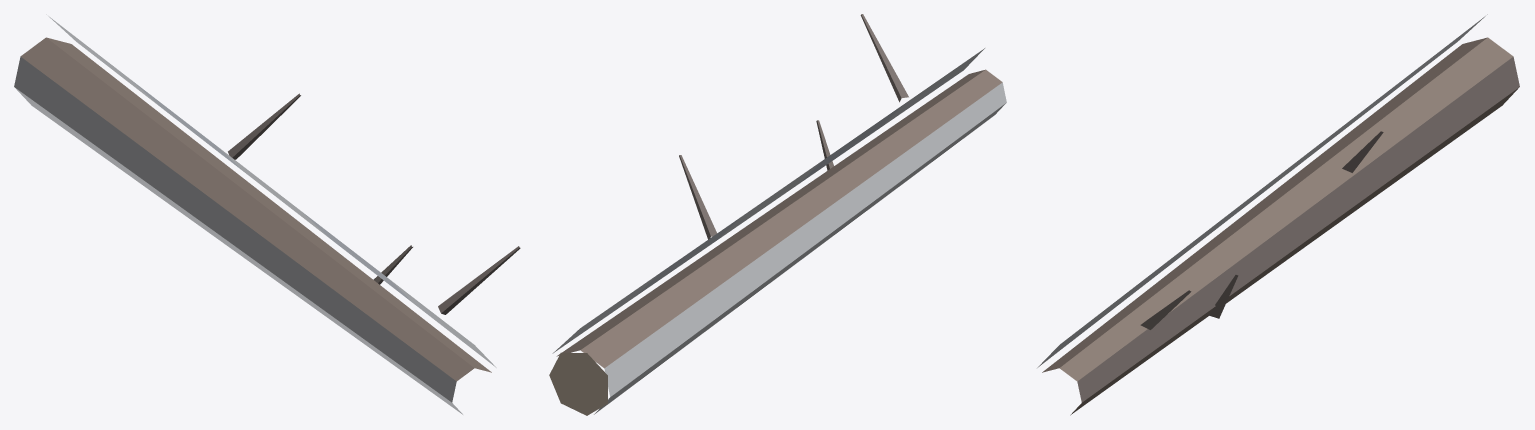
File: kaatunut_runko_1.glb
3 renders of one model, left to right at view 1: azimuth 30°, elevation 25°; view 2: azimuth 150°, elevation 25°; view 3: azimuth 330°, elevation 25°, orthographic. The views are drawn at different scales.
Parts seen in each view (by area): view 1: kaatunut_runko_1; view 2: kaatunut_runko_1; view 3: kaatunut_runko_1.
Boxes of the visible parts, x1,y1,x2,y2 form: kaatunut_runko_1: (14,14,520,414); kaatunut_runko_1: (549,14,1006,415); kaatunut_runko_1: (1037,14,1519,415).
Bounding box in the file's own units: 0.8157 × 0.8019 × 5.
